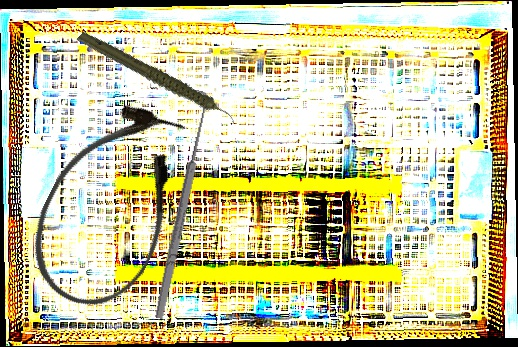Cannula: (10, 85, 210, 326)
Handpiece: (75, 2, 238, 157)
Hook Surgical: (144, 89, 215, 320)
